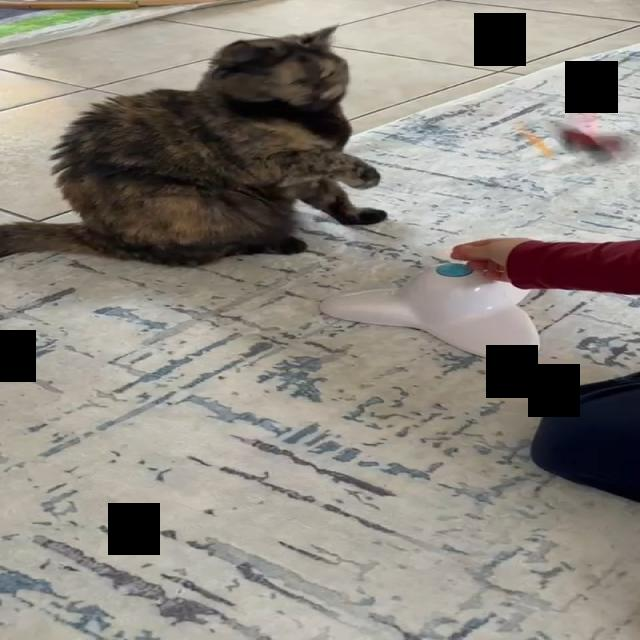authorized: (0, 24, 387, 268)
